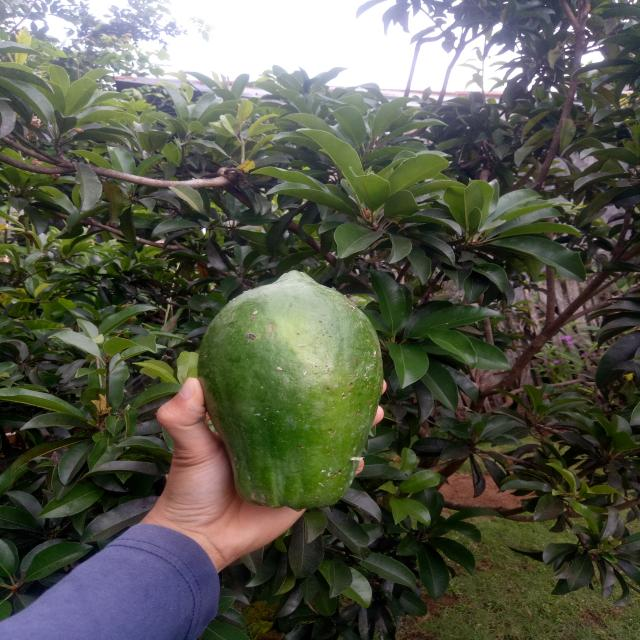Pepaya unrippen: (193, 266, 390, 510)
